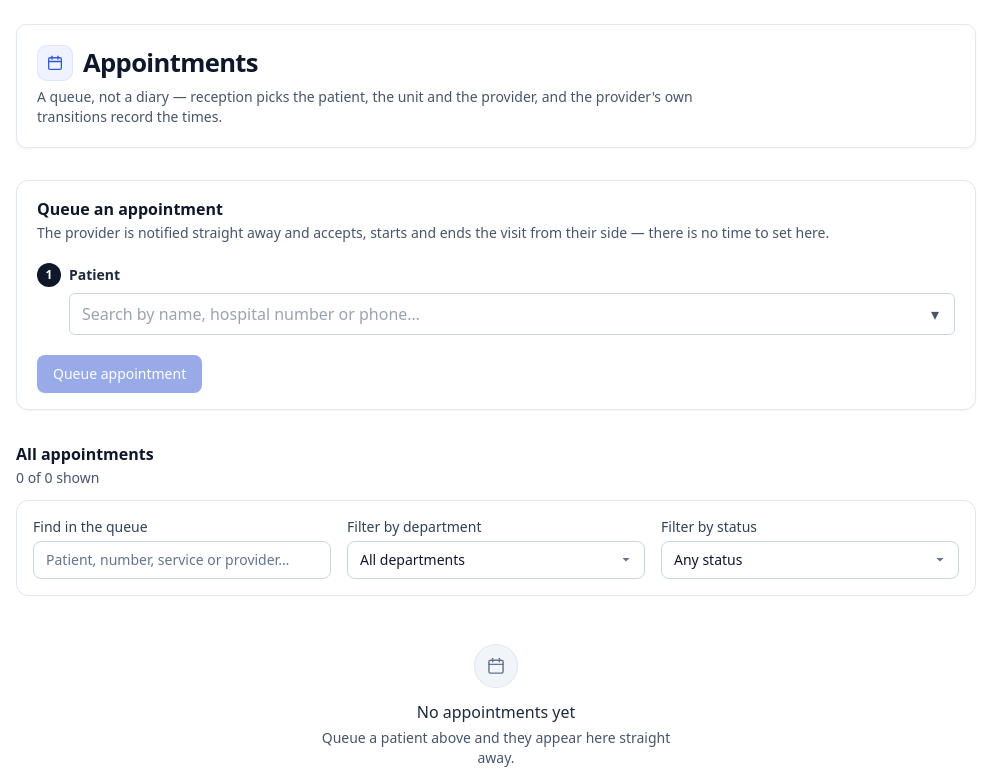
Test case: the booking form, step by step › shows the fee from the server and never offers to take payment
This screenshot has width=993, height=780.
Click the dropdown with placeholder "Search by name, hospital number or phone…": (512, 314) [69, 293, 955, 335]
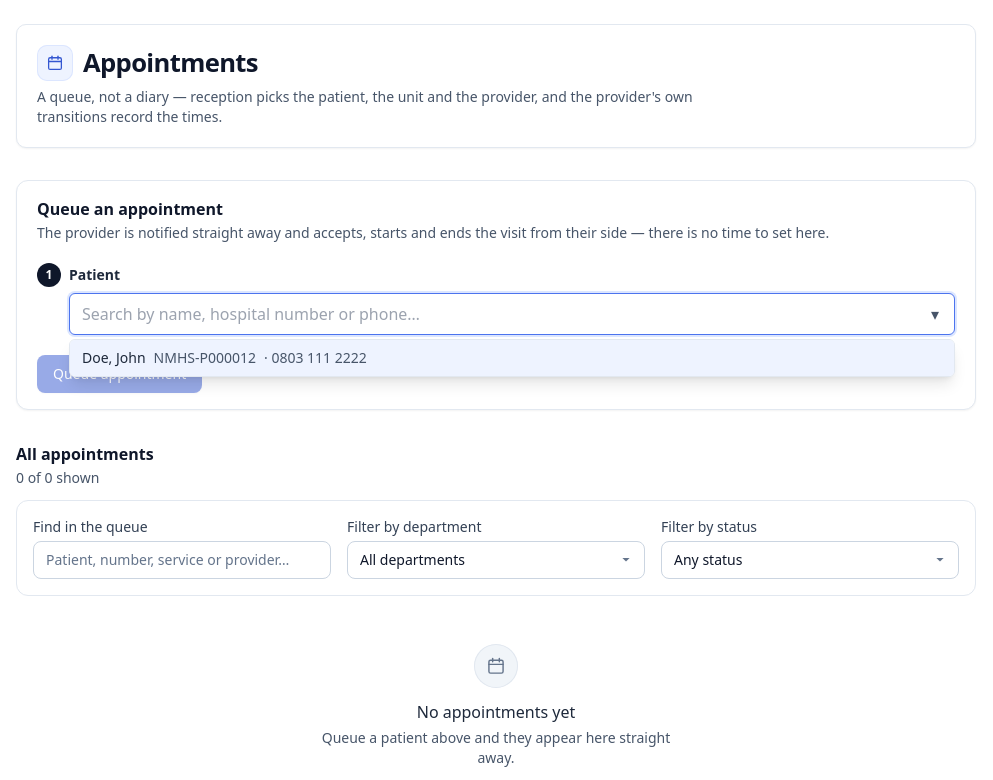
Click the button "Doe, John": (114, 358) [70, 340, 954, 376]
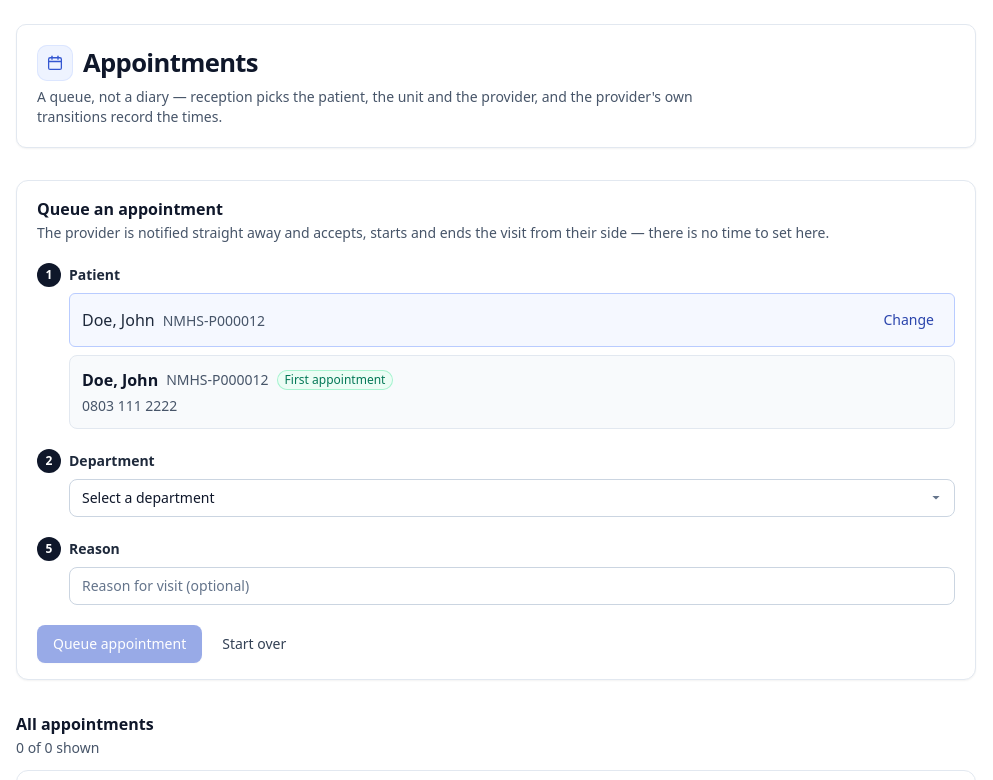
Select "Eye Clinic" in the dropdown named "Department": (512, 498) [69, 479, 955, 517]
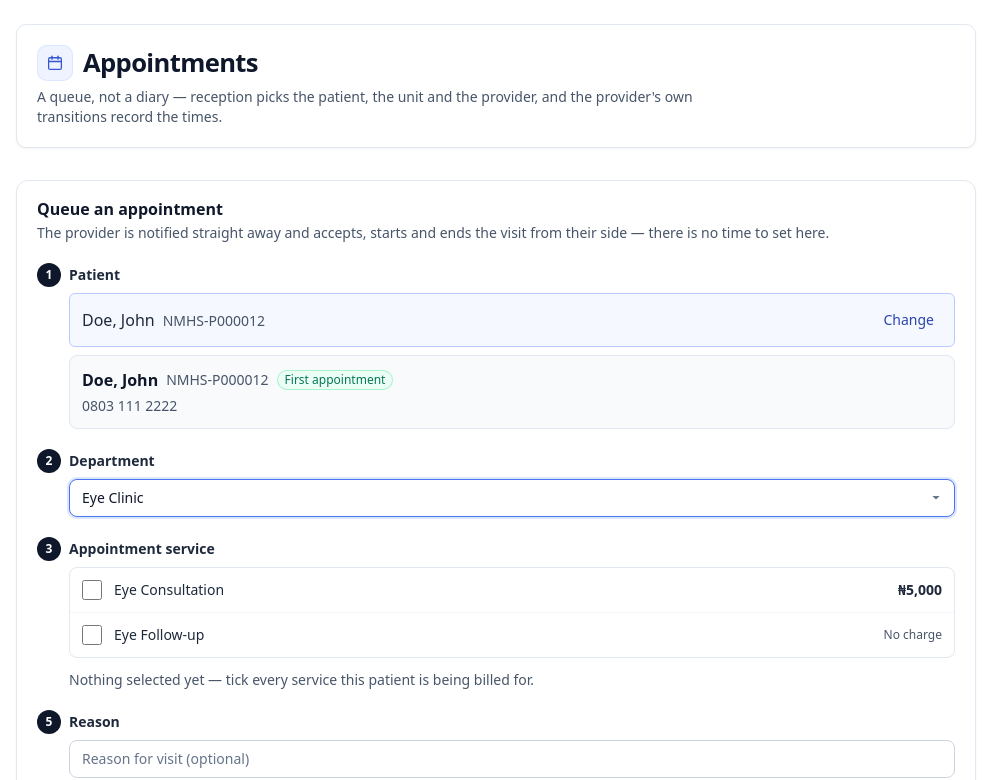
Click the checkbox labelled "Eye Consultation ₦5,000": (92, 590) [82, 580, 102, 600]
(page scrolled)
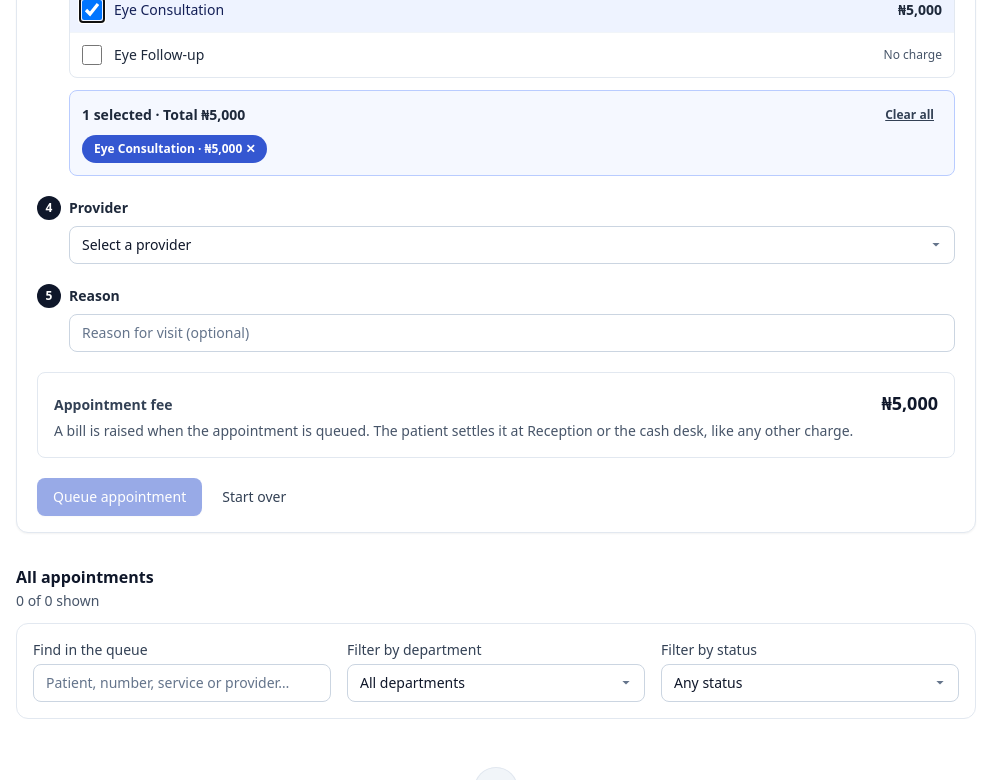
Result: the text "Appointment fee" is shown at [54, 395, 172, 415]
